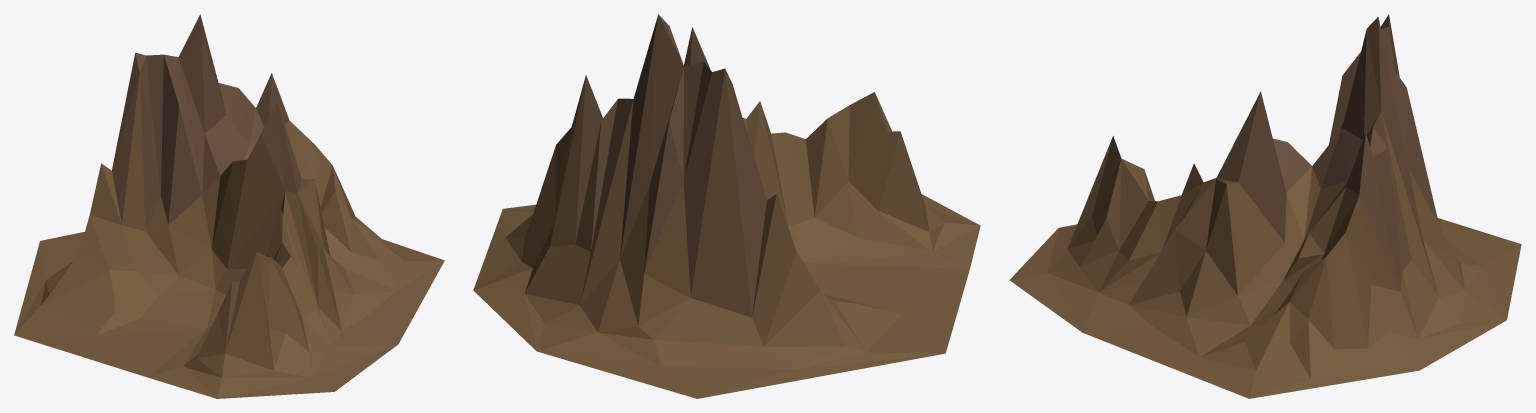
The model's file is brownspotM.fbx.
3 renders of one model, left to right at view 1: azimuth 30°, elevation 25°; view 2: azimuth 150°, elevation 25°; view 3: azimuth 270°, elevation 25°, orthographic. The views are drawn at different scales.
Parts seen in each view (by area): view 1: Plane; view 2: Plane; view 3: Plane.
Part boxes in pixels (left/top/right/bottom): Plane: left=14, top=14, right=444, bottom=398; Plane: left=473, top=14, right=980, bottom=398; Plane: left=1009, top=14, right=1521, bottom=398.
Size of the model in its own units: 161 by 96.05 by 159.
